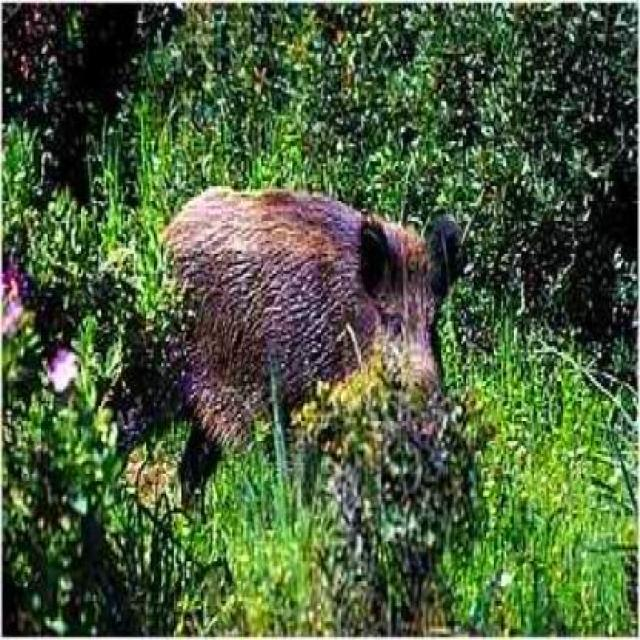Boar: (124, 165, 458, 526)
